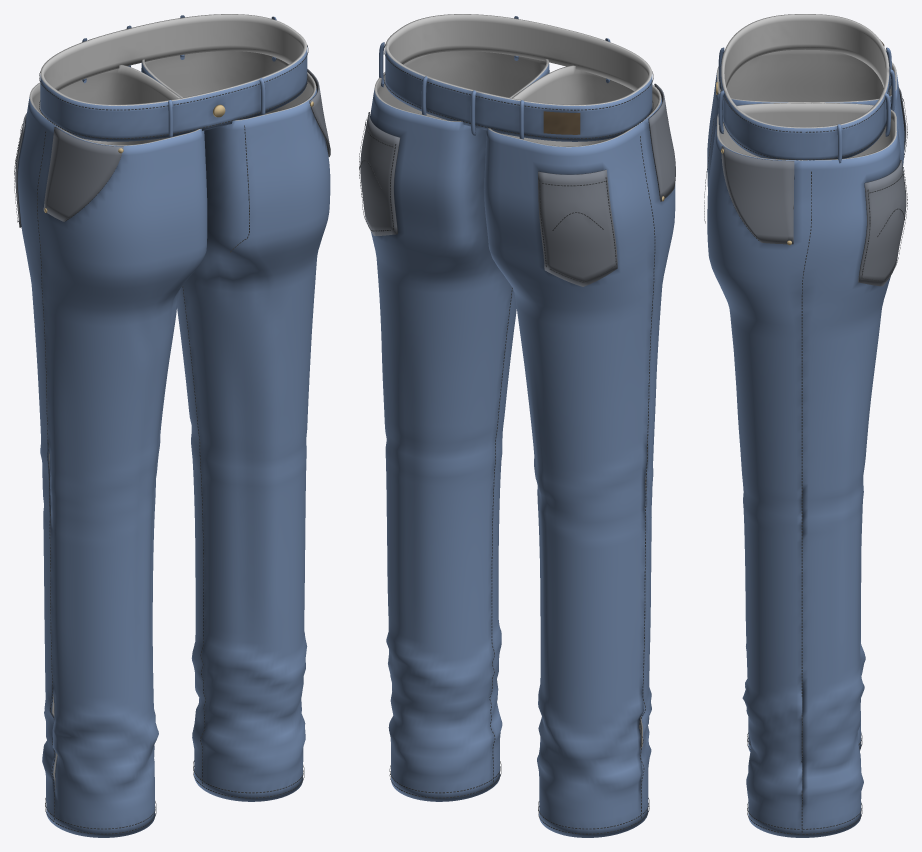
Rendered from jeans-straight-hi.glb.
3 renders of one model, left to right at view 1: azimuth 30°, elevation 25°; view 2: azimuth 150°, elevation 25°; view 3: azimuth 270°, elevation 25°, orthographic. The views are drawn at different scales.
Parts seen in each view (by area): view 1: leg_r, leg_l, waistband, frontpocket.001, stitches; view 2: leg_r, leg_l, waistband, backpocket.001, backpocket, stitches, frontpocket.001, patch; view 3: leg_l, waistband, leg_r, frontpocket, backpocket, stitches.
Boxes of the visible parts, <box> form: leg_r: <box>17,64,207,837</box>; leg_l: <box>141,51,330,801</box>; waistband: <box>40,14,307,141</box>; frontpocket.001: <box>43,127,123,221</box>; stitches: <box>14,45,330,834</box>; leg_r: <box>484,65,675,837</box>; leg_l: <box>370,51,549,801</box>; waistband: <box>385,14,652,141</box>; backpocket.001: <box>538,169,617,286</box>; backpocket: <box>360,112,400,235</box>; stitches: <box>359,44,675,834</box>; frontpocket.001: <box>648,83,675,201</box>; patch: <box>543,111,580,134</box>; leg_l: <box>707,103,903,837</box>; waistband: <box>721,14,889,160</box>; leg_r: <box>707,49,904,751</box>; frontpocket: <box>721,146,794,244</box>; backpocket: <box>858,160,906,286</box>; stitches: <box>704,53,907,834</box>.
Size of the model in its own units: 0.3918 by 1.01 by 0.2613.
